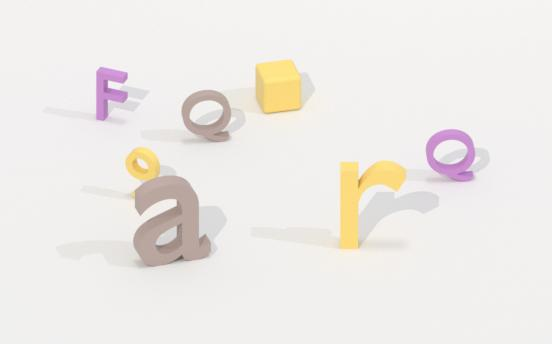9: (124, 147, 163, 201)
F: (90, 63, 136, 124)
R: (335, 158, 417, 253)
a: (127, 180, 216, 264)
hop: (252, 58, 305, 116)
q: (422, 127, 481, 185), (180, 89, 236, 146)
